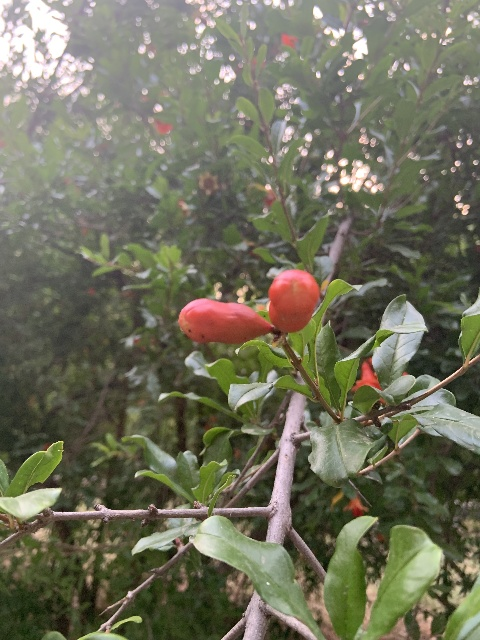bud: (178, 297, 270, 344), (267, 269, 319, 332)
flower: (351, 357, 385, 404), (343, 494, 368, 517)
